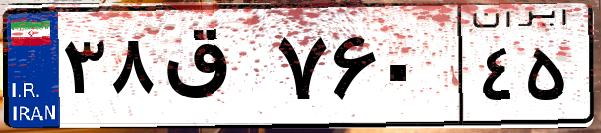0: (385, 28, 445, 110)
3: (57, 26, 110, 100)
4: (475, 38, 525, 113)
5: (525, 38, 570, 115)
6: (330, 28, 385, 110)
7: (270, 28, 330, 110)
8: (110, 28, 158, 98)
ق: (158, 20, 270, 120)
